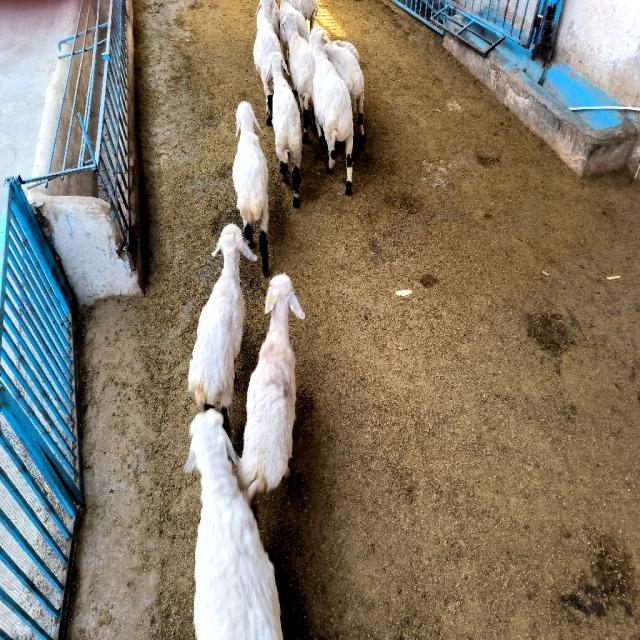sheep: (185, 408, 282, 638), (239, 273, 305, 512), (189, 223, 258, 435), (310, 27, 354, 192), (232, 102, 269, 277), (268, 52, 302, 206), (324, 43, 364, 144), (284, 13, 315, 141), (254, 0, 281, 124), (280, 0, 309, 41), (288, 0, 318, 29), (279, 23, 289, 59)
